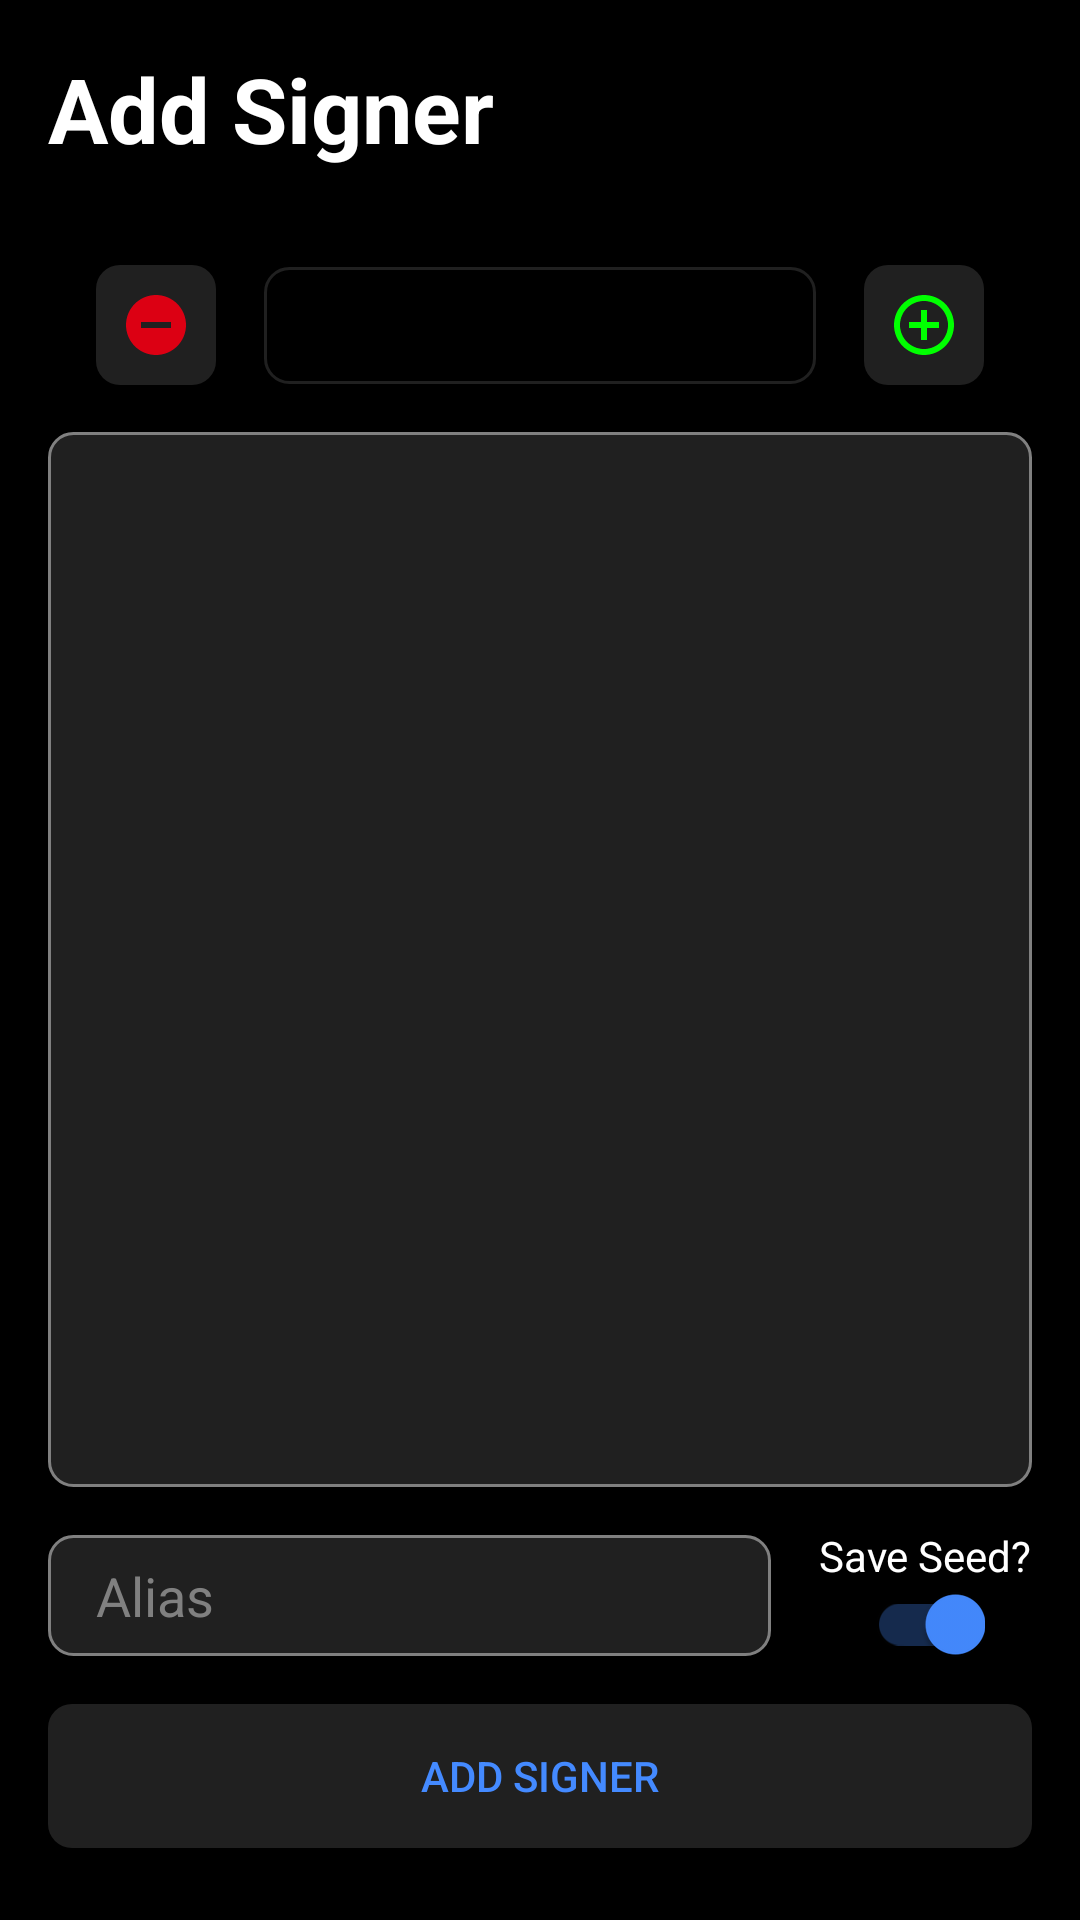

Icon bounding boxes for this 1080w x 1920h phone screenshot, format bbox=[x1, y1, x2, y2]:
add circle: bbox=[864, 265, 984, 385]
remove circle: bbox=[96, 265, 216, 385]
